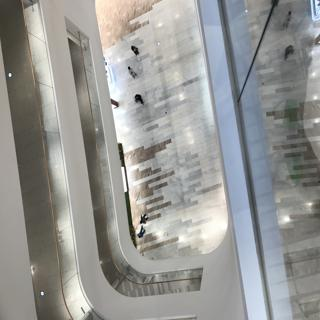person: (119, 60, 145, 85), (129, 91, 152, 114), (129, 40, 144, 57)
